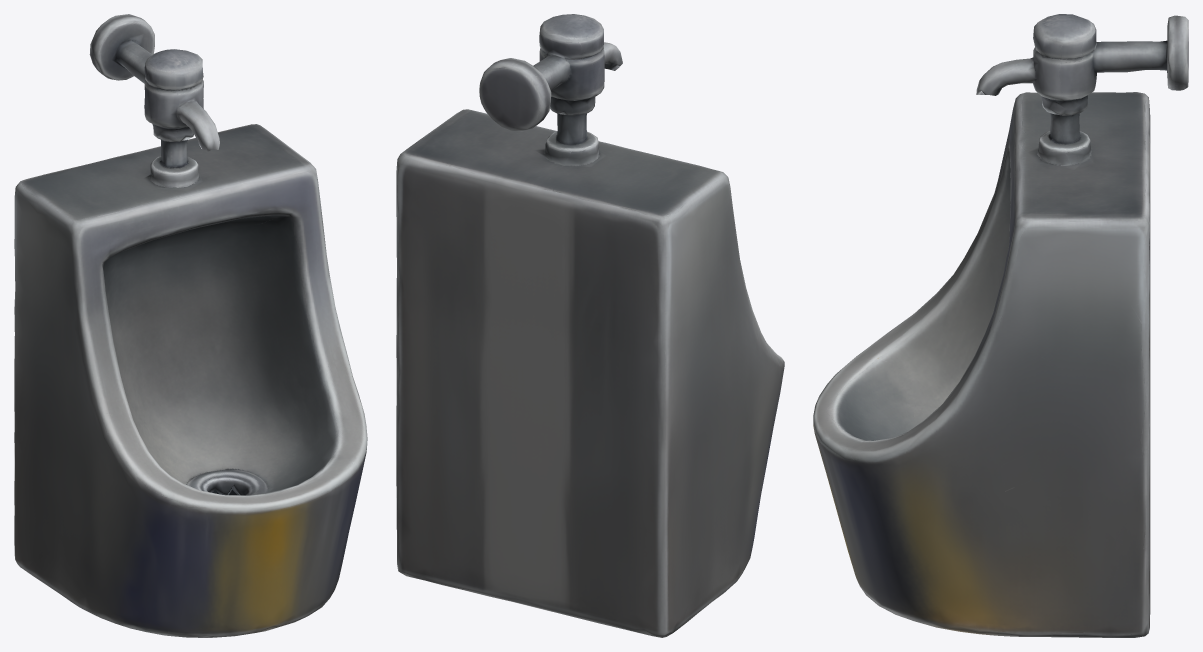
File: universitytoilet_Urinal.glb
3 views of the same model, side by side, from view 1: azimuth 30°, elevation 25°; view 2: azimuth 150°, elevation 25°; view 3: azimuth 270°, elevation 25° (orthographic). The views are drawn at different scales.
Visible parts, largest first — view 1: world; view 2: world; view 3: world.
Part boxes in pixels (x1,y1,x2,y2): world: (14,14,367,637); world: (396,14,784,637); world: (813,14,1188,637).
Bounding box in the file's own units: 0.5129 × 1 × 0.6135.
1 material, 1 textured.
